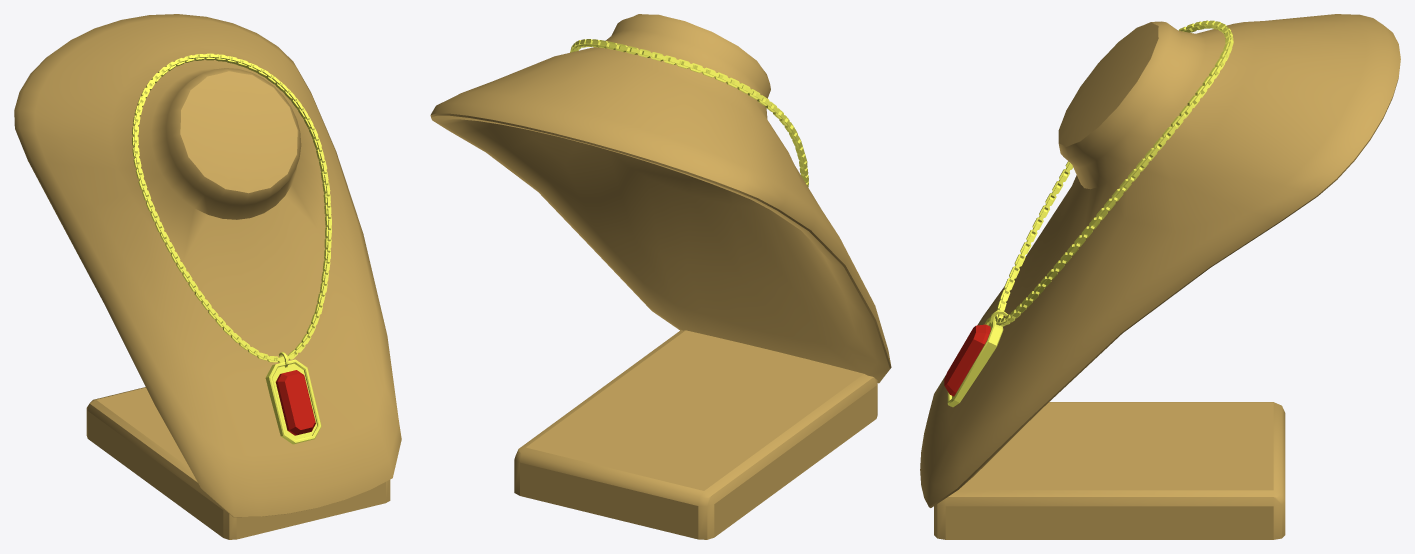
The model's file is Necklace_2.fbx.
3 views of the same model, side by side, from view 1: azimuth 30°, elevation 25°; view 2: azimuth 150°, elevation 25°; view 3: azimuth 270°, elevation 25° (orthographic). The views are drawn at different scales.
Visible parts, largest first — view 1: SM_Stand_Necklace_4, SM_Necklace_5, SM_Cullon_12; view 2: SM_Stand_Necklace_4, SM_Necklace_5; view 3: SM_Stand_Necklace_4, SM_Necklace_5, SM_Cullon_12.
Boxes of the visible parts, <box> form: SM_Stand_Necklace_4: <box>14,14,401,539</box>; SM_Necklace_5: <box>132,53,331,362</box>; SM_Cullon_12: <box>265,352,321,444</box>; SM_Stand_Necklace_4: <box>430,14,891,539</box>; SM_Necklace_5: <box>570,39,808,187</box>; SM_Stand_Necklace_4: <box>920,14,1400,539</box>; SM_Necklace_5: <box>995,20,1233,326</box>; SM_Cullon_12: <box>944,310,1008,407</box>.
Size of the model in its own units: 22.51 by 29.29 by 27.78.
